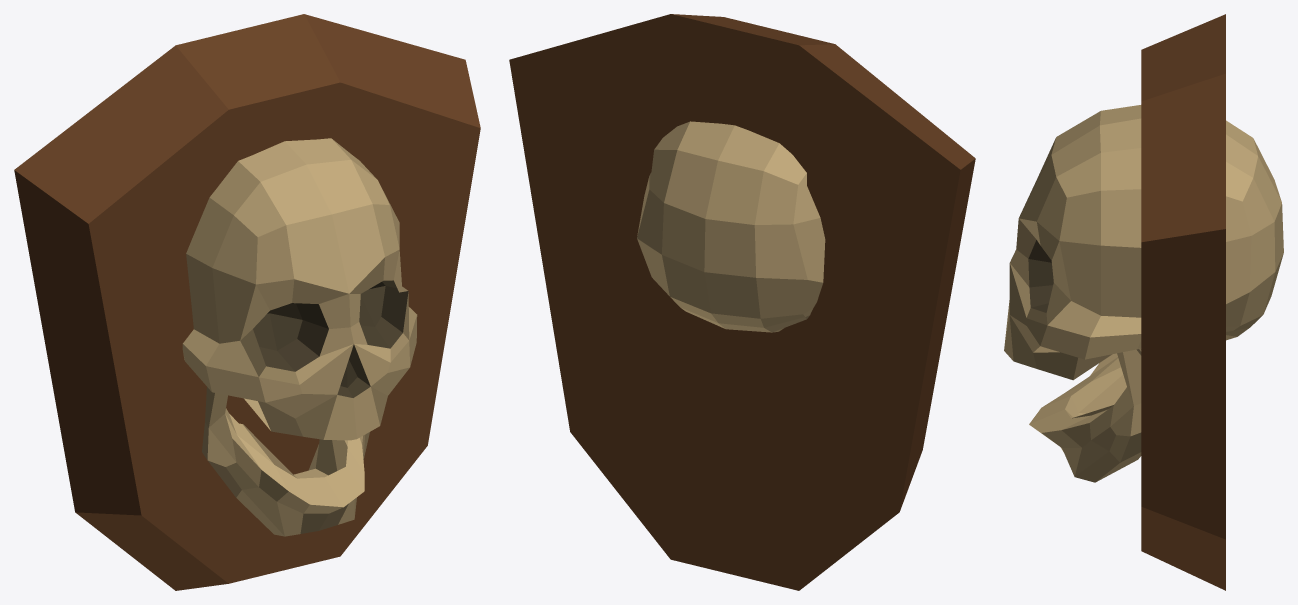
Rendered from mirmirHead.fbx.
3 views of the same model, side by side, from view 1: azimuth 30°, elevation 25°; view 2: azimuth 150°, elevation 25°; view 3: azimuth 270°, elevation 25° (orthographic). The views are drawn at different scales.
Parts seen in each view (by area): view 1: Cube; view 2: Cube; view 3: Cube.
Part boxes in pixels (x1,y1,x2,y2): Cube: [14, 14, 480, 590]; Cube: [509, 14, 975, 590]; Cube: [1004, 14, 1283, 590].
Bounding box in the file's own units: 331 × 382 × 187.
